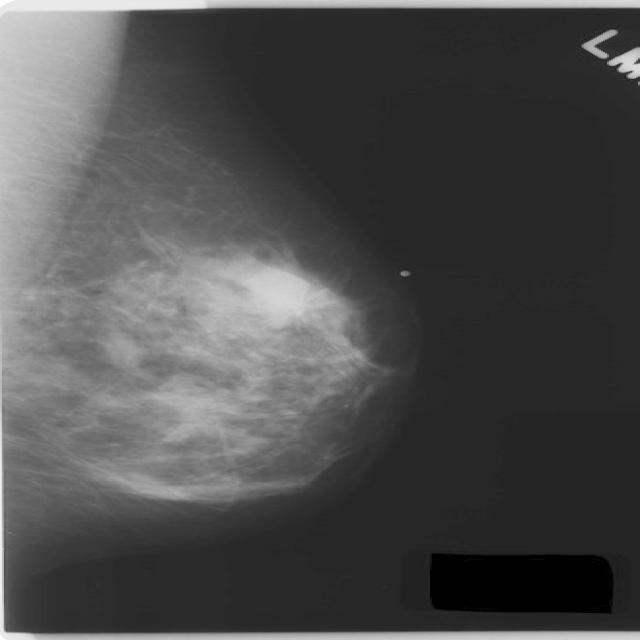tumour: (234, 260, 315, 326)
